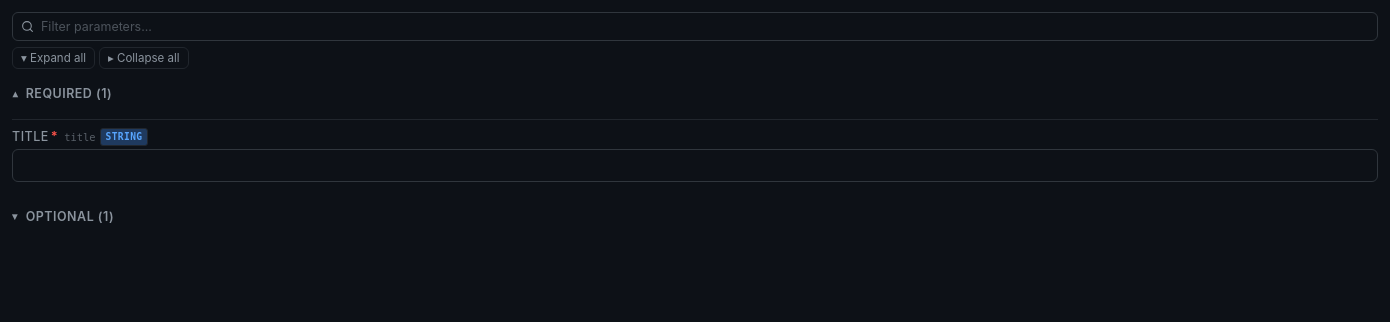
Test: ParamEditor › expand all and collapse all toggle sections
The width and height of the screenshot is (1390, 322).
Expected: the text "color" is not shown
Click the button titled "Expand all sections" at coordinates (54, 58), box left=12, top=47, right=95, bottom=69
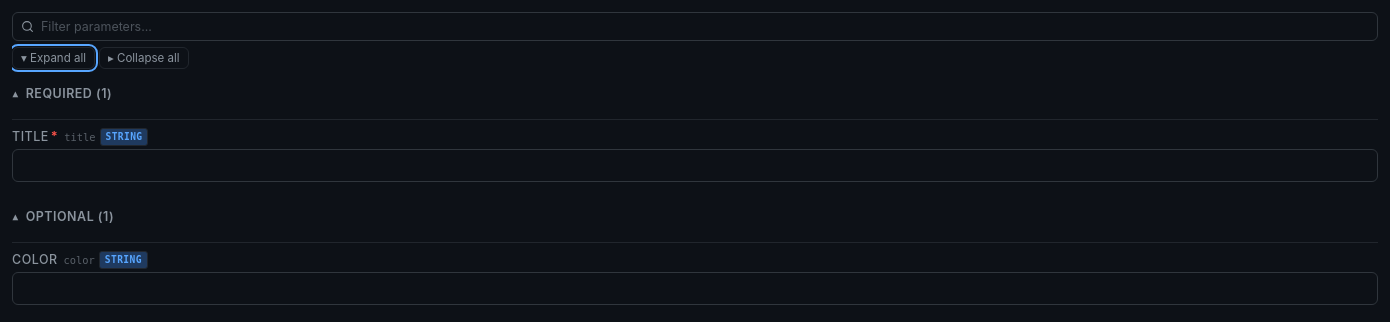
Result: the text "color" is shown at left=64, top=254, right=95, bottom=266
Click the button titled "Collapse all sections" at coordinates (144, 58), box left=99, top=47, right=188, bottom=69
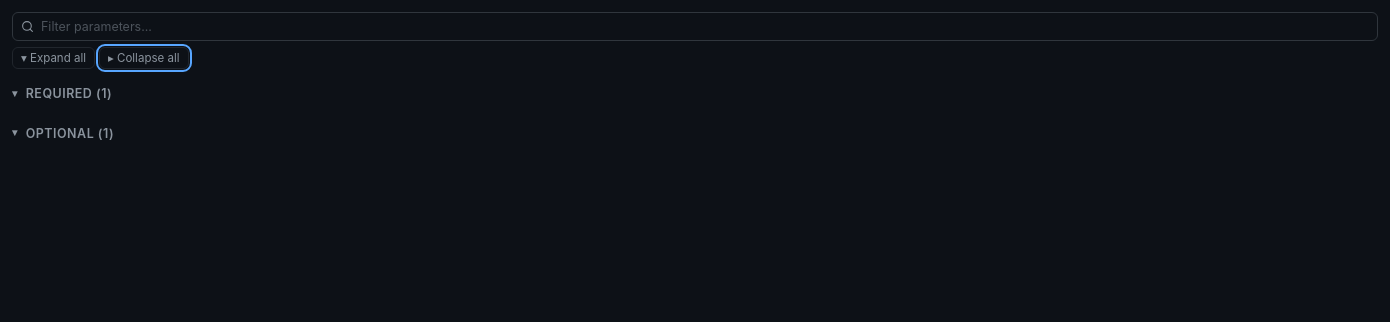
Result: the text "color" is gone
